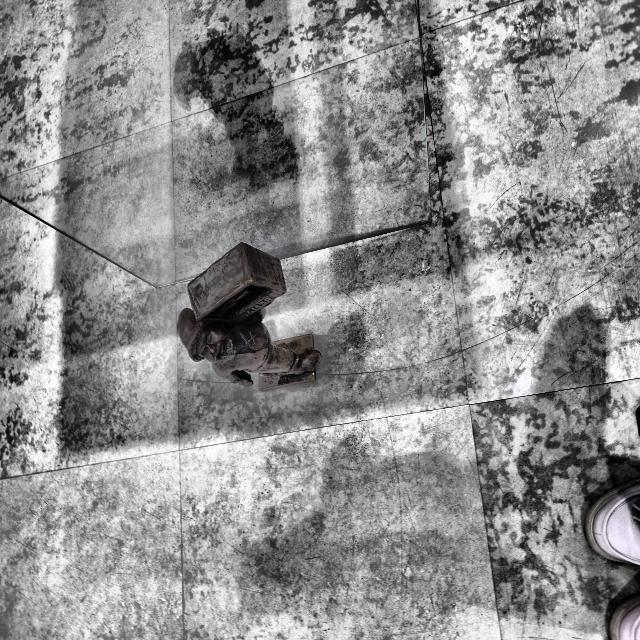GigaHercjusz: (178, 243, 321, 390)
